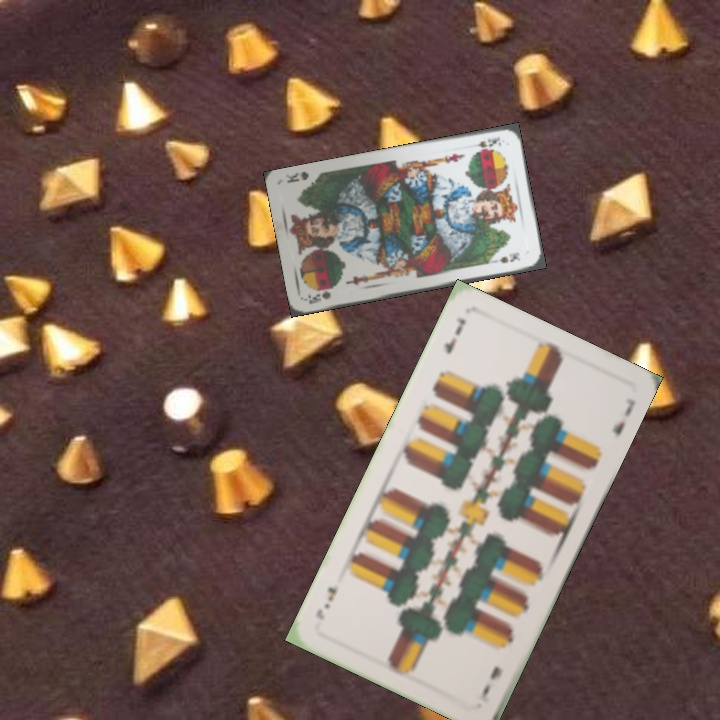E7: (476, 661, 505, 706), (440, 313, 468, 357)
SK: (465, 132, 504, 153), (304, 286, 333, 306)
